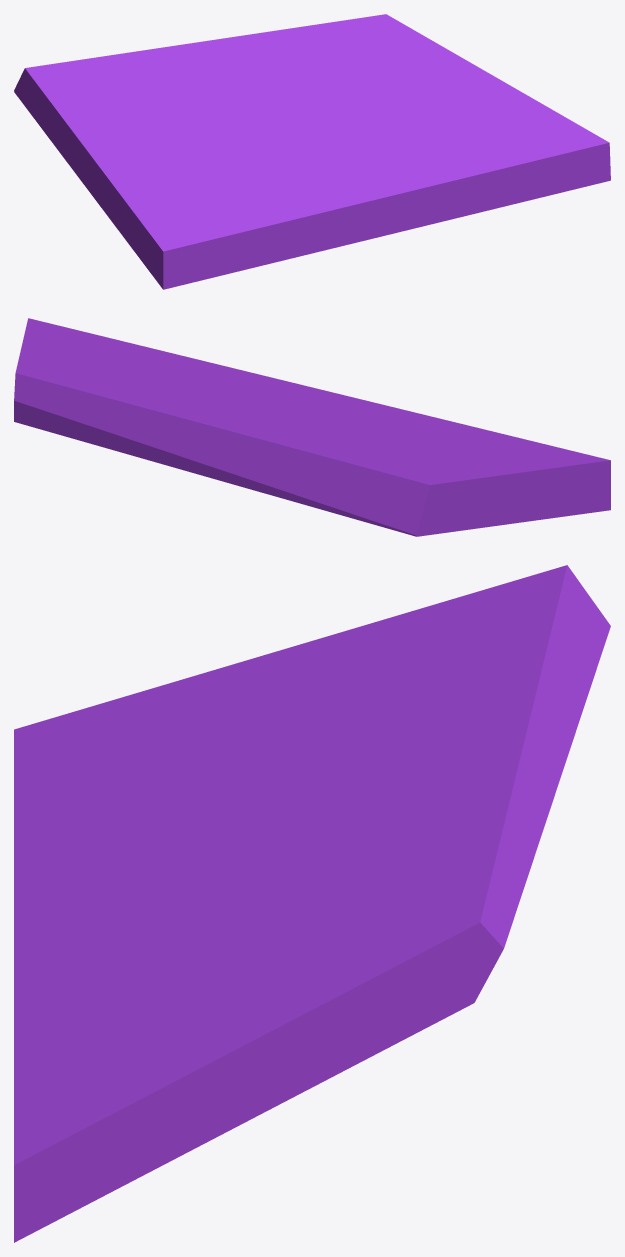
The model's file is Window_161_0_chunks.fbx.
The picture shows the model from 3 angles, top to bottom: view 1: azimuth 30°, elevation 25°; view 2: azimuth 150°, elevation 25°; view 3: azimuth 270°, elevation 25°; orthographic projection. The views are drawn at different scales.
Visible parts, largest first — view 1: Window_161_0_8, Window_161_0_6, Window_161_0_12, Window_161_0_4, Window_161_0_24, Window_161_0_9, Window_161_0_21, Window_161_0_11, Window_161_0_23, Window_161_0_16, Window_161_0_15, Window_161_0_2 (+7 smaller); view 2: Window_161_0_3, Window_161_0_2, Window_161_0_12, Window_161_0_8, Window_161_0_11, Window_161_0_18, Window_161_0_16, Window_161_0_17, Window_161_0_9, Window_161_0_24, Window_161_0_21, Window_161_0_6 (+8 smaller); view 3: Window_161_0_11, Window_161_0_24, Window_161_0_8, Window_161_0_12, Window_161_0_9, Window_161_0_21, Window_161_0_2, Window_161_0_3, Window_161_0_16, Window_161_0_6, Window_161_0_15, Window_161_0_4 (+7 smaller).
Part boxes in pixels (<box>): Window_161_0_8: <box>113,137,266,289</box>; Window_161_0_6: <box>326,142,521,245</box>; Window_161_0_12: <box>265,20,392,135</box>; Window_161_0_4: <box>195,152,348,281</box>; Window_161_0_24: <box>447,82,610,168</box>; Window_161_0_9: <box>191,90,300,219</box>; Window_161_0_21: <box>342,109,486,181</box>; Window_161_0_11: <box>348,14,508,84</box>; Window_161_0_23: <box>477,140,610,201</box>; Window_161_0_16: <box>19,59,149,109</box>; Window_161_0_15: <box>143,70,267,131</box>; Window_161_0_2: <box>190,30,277,87</box>; Window_161_0_3: <box>239,433,431,536</box>; Window_161_0_2: <box>104,407,284,488</box>; Window_161_0_12: <box>59,377,276,448</box>; Window_161_0_8: <box>397,426,610,512</box>; Window_161_0_11: <box>14,343,117,440</box>; Window_161_0_18: <box>432,470,515,534</box>; Window_161_0_16: <box>322,448,461,527</box>; Window_161_0_17: <box>448,457,594,523</box>; Window_161_0_9: <box>249,408,464,441</box>; Window_161_0_24: <box>22,318,135,363</box>; Window_161_0_21: <box>122,354,260,396</box>; Window_161_0_6: <box>215,363,368,403</box>; Window_161_0_11: <box>204,885,516,1143</box>; Window_161_0_24: <box>14,993,268,1219</box>; Window_161_0_8: <box>14,670,318,829</box>; Window_161_0_12: <box>201,810,527,937</box>; Window_161_0_9: <box>30,742,358,851</box>; Window_161_0_21: <box>14,895,249,1044</box>; Window_161_0_2: <box>369,728,563,875</box>; Window_161_0_3: <box>459,596,610,766</box>; Window_161_0_16: <box>419,565,588,690</box>; Window_161_0_6: <box>14,881,172,1025</box>; Window_161_0_15: <box>297,688,484,813</box>; Window_161_0_4: <box>14,828,186,910</box>.
Size of the model in its own units: 1229 by 316 by 709.
